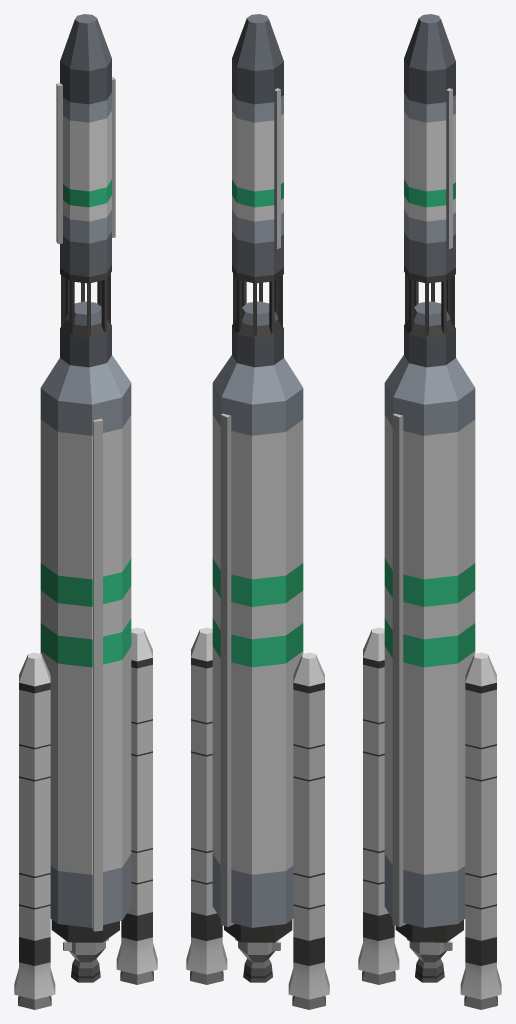
Rendered from SM_Veh_Rocket_04.fbx.
3 views of the same model, side by side, from view 1: azimuth 30°, elevation 25°; view 2: azimuth 150°, elevation 25°; view 3: azimuth 330°, elevation 25° (orthographic).
Parts seen in each view (by area): view 1: SM_Veh_Rocket_04; view 2: SM_Veh_Rocket_04; view 3: SM_Veh_Rocket_04.
Boxes of the visible parts, box(x1,y1,x2,y2) form: SM_Veh_Rocket_04: box(14, 14, 157, 1009); SM_Veh_Rocket_04: box(186, 14, 329, 1009); SM_Veh_Rocket_04: box(358, 14, 501, 1009).
Size of the model in its own units: 2.99 by 19.29 by 1.72.
